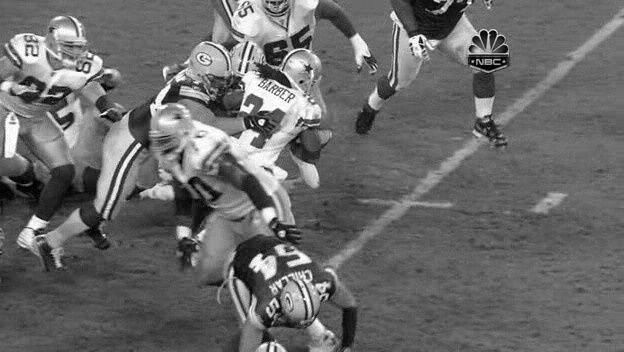person: (287, 48, 322, 92), (286, 48, 321, 92), (288, 48, 323, 92), (287, 47, 322, 91), (287, 49, 322, 93)
target_negative: (70, 50, 444, 199), (363, 164, 505, 289), (448, 73, 485, 313), (446, 252, 517, 331), (353, 313, 456, 347), (222, 78, 240, 195)
